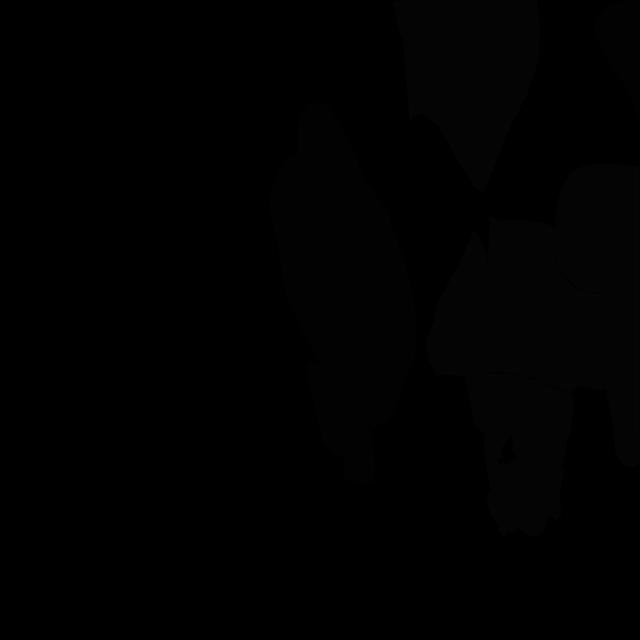cardboard: (269, 101, 416, 484), (594, 0, 640, 121)
soft_plastic: (393, 0, 540, 193), (554, 164, 640, 468), (425, 231, 536, 459), (484, 217, 605, 394), (485, 380, 574, 537)
